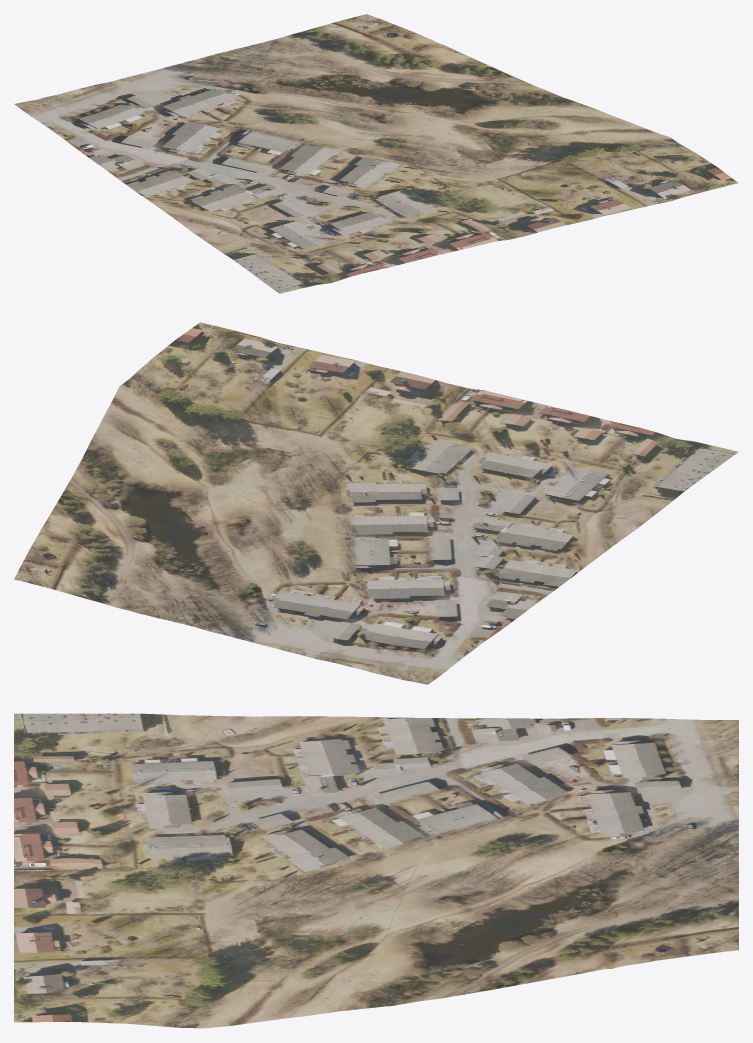
The model's file is CM_Terrain_24491482_6820818.fbx.
The picture shows the model from 3 angles, top to bottom: view 1: azimuth 30°, elevation 25°; view 2: azimuth 150°, elevation 25°; view 3: azimuth 270°, elevation 25°; orthographic projection. The views are drawn at different scales.
Visible parts, largest first — view 1: CM_Terrain_24491482_6820818_LOD0; view 2: CM_Terrain_24491482_6820818_LOD0; view 3: CM_Terrain_24491482_6820818_LOD0.
Part boxes in pixels (box(x1,y1,x2,y2)): CM_Terrain_24491482_6820818_LOD0: box(14, 14, 738, 293); CM_Terrain_24491482_6820818_LOD0: box(14, 322, 738, 684); CM_Terrain_24491482_6820818_LOD0: box(14, 713, 738, 1028).
Size of what is drawn, in the model's own units: 205 by 3.54 by 205.
